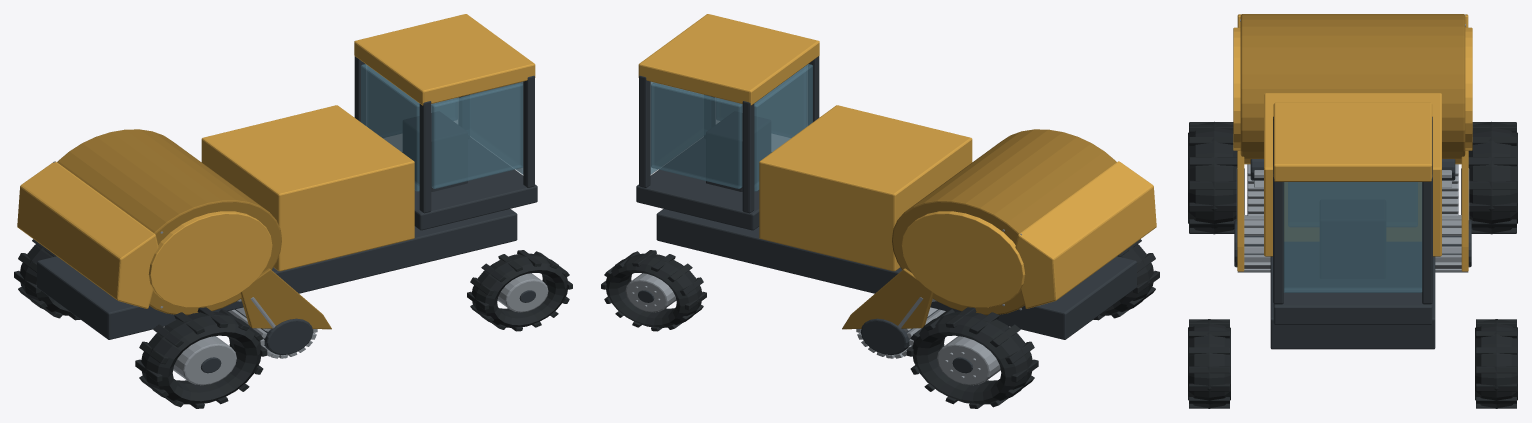
Rendered from vermeer-zr5-1200-structural-study.glb.
The picture shows the model from 3 angles, left to right: view 1: azimuth 30°, elevation 25°; view 2: azimuth 150°, elevation 25°; view 3: azimuth 270°, elevation 25°; orthographic projection. The views are drawn at different scales.
Parts seen in each view (by area): view 1: Power_Module, Round_Bale_Chamber, Self_Propelled_Baler_Frame, Round_Chamber_Tailgate, Cab_Roof, Chamber_R_Side_Plate, Cab_R_Glass, Rear_R_Tire, Cab_Floor, Cab_Rear_Glass, Front_R_Tire, Operator_Seat (+8 smaller); view 2: Power_Module, Round_Bale_Chamber, Self_Propelled_Baler_Frame, Round_Chamber_Tailgate, Cab_Roof, Chamber_L_Side_Plate, Cab_L_Glass, Rear_L_Tire, Cab_Floor, Cab_Rear_Glass, Front_L_Tire, Operator_Seat (+8 smaller); view 3: Round_Bale_Chamber, Cab_Front_Glass, Cab_Roof, Cab_Floor, Power_Module, Operator_Seat, Self_Propelled_Baler_Frame, Rear_L_Tire, Rear_R_Tire, Front_L_Tire, Front_R_Tire, Cab_L_Post_F (+23 smaller).
Boxes of the visible parts, left/top/right/bottom form: Power_Module: left=201, top=105, right=414, bottom=271; Round_Bale_Chamber: left=57, top=129, right=281, bottom=315; Self_Propelled_Baler_Frame: left=37, top=209, right=517, bottom=339; Round_Chamber_Tailgate: left=17, top=161, right=158, bottom=308; Cab_Roof: left=354, top=14, right=535, bottom=105; Chamber_R_Side_Plate: left=148, top=211, right=272, bottom=307; Cab_R_Glass: left=431, top=83, right=522, bottom=188; Rear_R_Tire: left=141, top=312, right=261, bottom=404; Cab_Floor: left=414, top=137, right=537, bottom=230; Cab_Rear_Glass: left=361, top=64, right=419, bottom=191; Front_R_Tire: left=471, top=253, right=567, bottom=327; Operator_Seat: left=403, top=112, right=467, bottom=191; Power_Module: left=759, top=105, right=972, bottom=271; Round_Bale_Chamber: left=892, top=129, right=1116, bottom=315; Self_Propelled_Baler_Frame: left=656, top=209, right=1136, bottom=339; Round_Chamber_Tailgate: left=1015, top=161, right=1156, bottom=308; Cab_Roof: left=638, top=14, right=819, bottom=105; Chamber_L_Side_Plate: left=901, top=211, right=1025, bottom=307; Cab_L_Glass: left=651, top=83, right=742, bottom=188; Rear_L_Tire: left=912, top=312, right=1032, bottom=404; Cab_Floor: left=636, top=137, right=759, bottom=230; Cab_Rear_Glass: left=754, top=64, right=812, bottom=191; Front_L_Tire: left=606, top=253, right=702, bottom=327; Operator_Seat: left=706, top=112, right=770, bottom=191; Round_Bale_Chamber: left=1240, top=14, right=1465, bottom=164; Cab_Front_Glass: left=1283, top=182, right=1422, bottom=292; Cab_Roof: left=1273, top=102, right=1432, bottom=181; Cab_Floor: left=1273, top=242, right=1432, bottom=324; Power_Module: left=1264, top=93, right=1441, bottom=256; Operator_Seat: left=1320, top=200, right=1385, bottom=278; Self_Propelled_Baler_Frame: left=1270, top=256, right=1435, bottom=349; Rear_L_Tire: left=1468, top=121, right=1517, bottom=234; Rear_R_Tire: left=1188, top=121, right=1237, bottom=234; Front_L_Tire: left=1475, top=319, right=1517, bottom=408; Front_R_Tire: left=1188, top=319, right=1230, bottom=408; Cab_L_Post_F: left=1422, top=174, right=1432, bottom=304.
Bounding box in the file's own units: 6.3 × 3.15 × 3.61.
